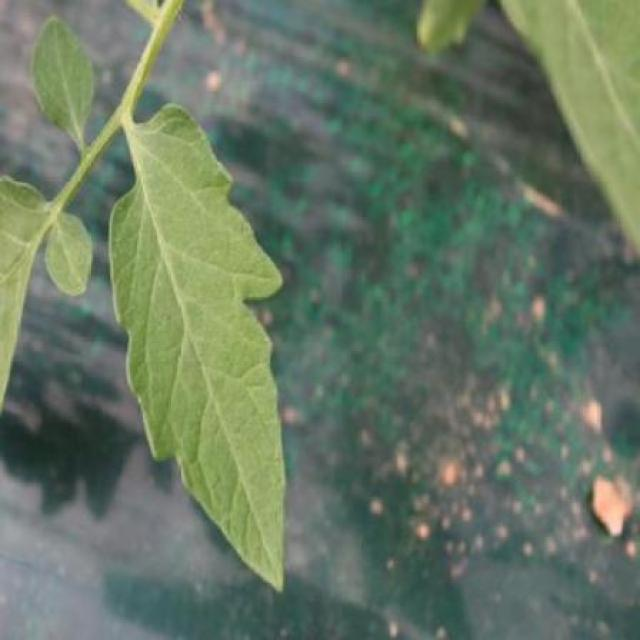Healthy: (108, 104, 285, 594)
